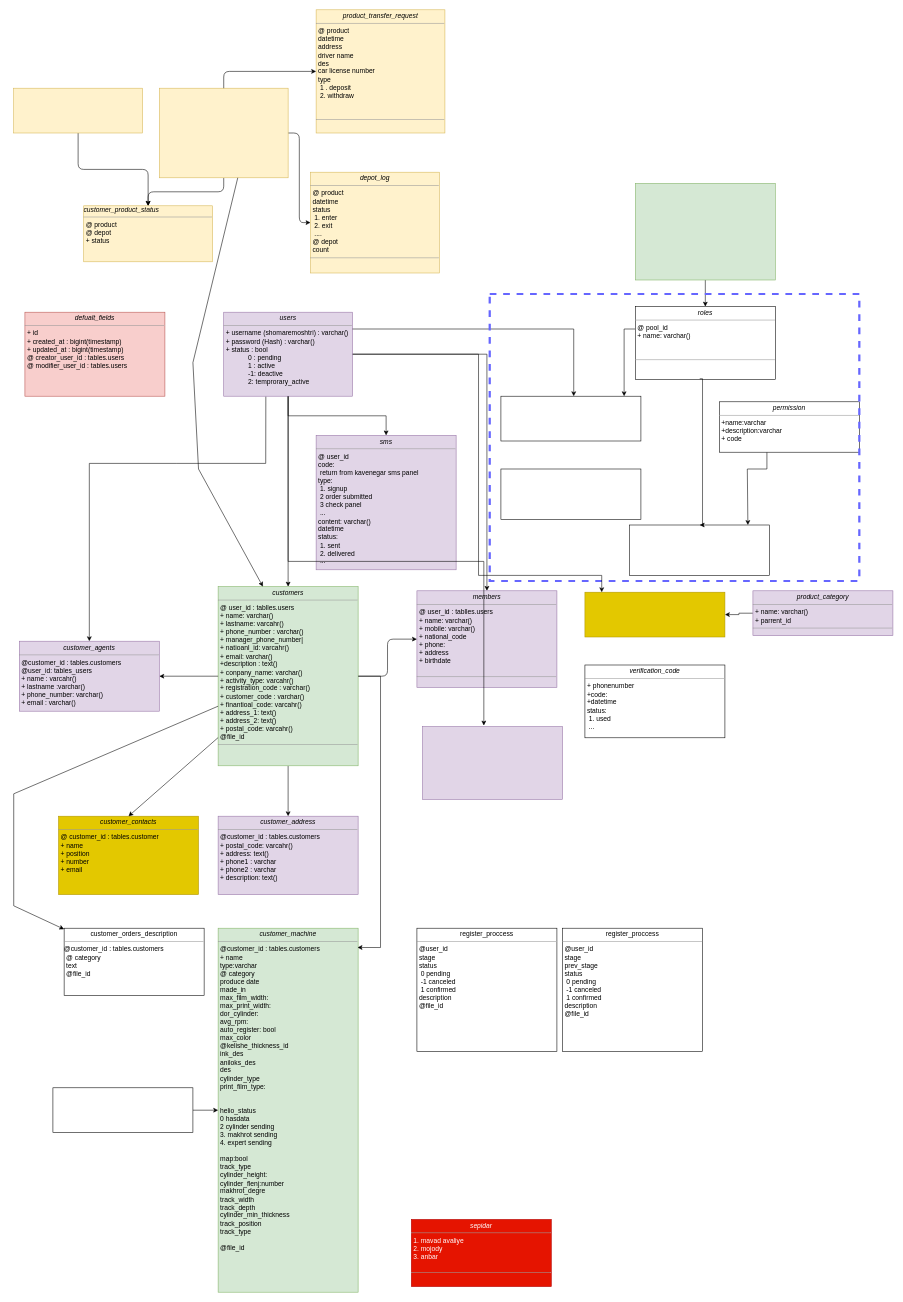
Some shapes in this 903 by 1302 pixel diagram are drawn without their labels. The shapes that lost their labels are listed below. From the top down, each one's centre as x and y in pixels, then its label:
the point at 78,110: depot + name
the point at 223,133: customer_product @ customer + name + des + text ...
the point at 705,231: pool +name + rols :
the point at 570,418: role user @ user_id : tables.user @ roles_id : tables.roles
the point at 570,493: exception_permission @role_id @ permission_id
the point at 699,549: role_permission @role_id @ permission_id
the point at 654,614: category_permission @cat_id @ user_id
the point at 492,762: files @ user_id + description + datetime + path
the point at 122,1110: kelishe_thickness + value + unit: varchar
